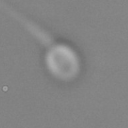normal: (1, 1, 54, 45)
